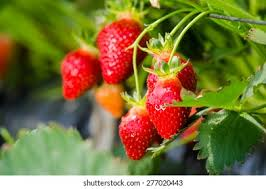ripe: (92, 17, 148, 85), (108, 105, 157, 168), (56, 43, 105, 104), (145, 47, 199, 98), (144, 83, 191, 141)
unripe: (96, 83, 129, 119)
